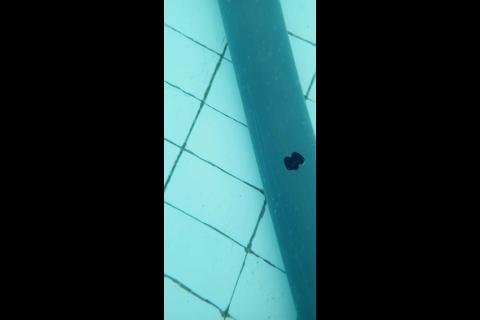kebocoran: (283, 150, 303, 170)
